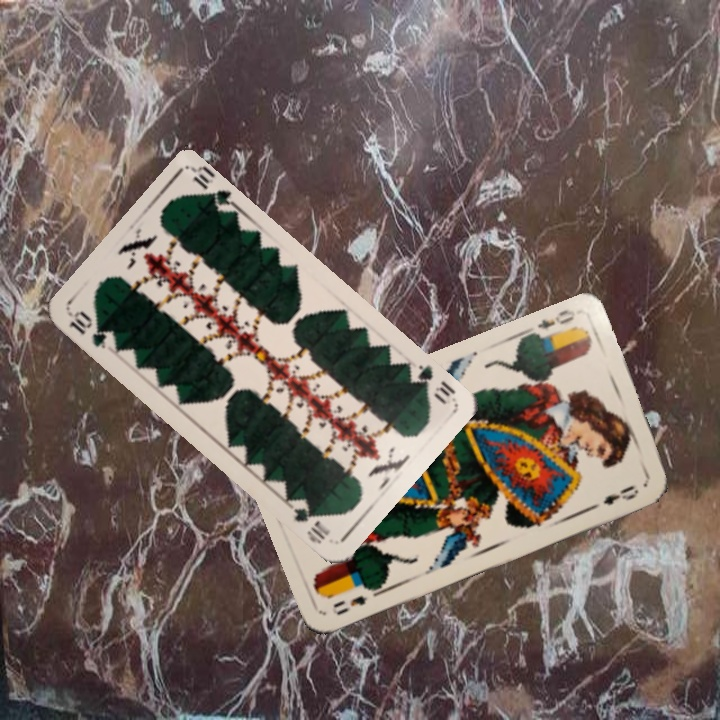EO: (329, 583, 381, 618), (533, 305, 578, 332)
G10: (405, 360, 458, 408), (64, 306, 109, 352)
